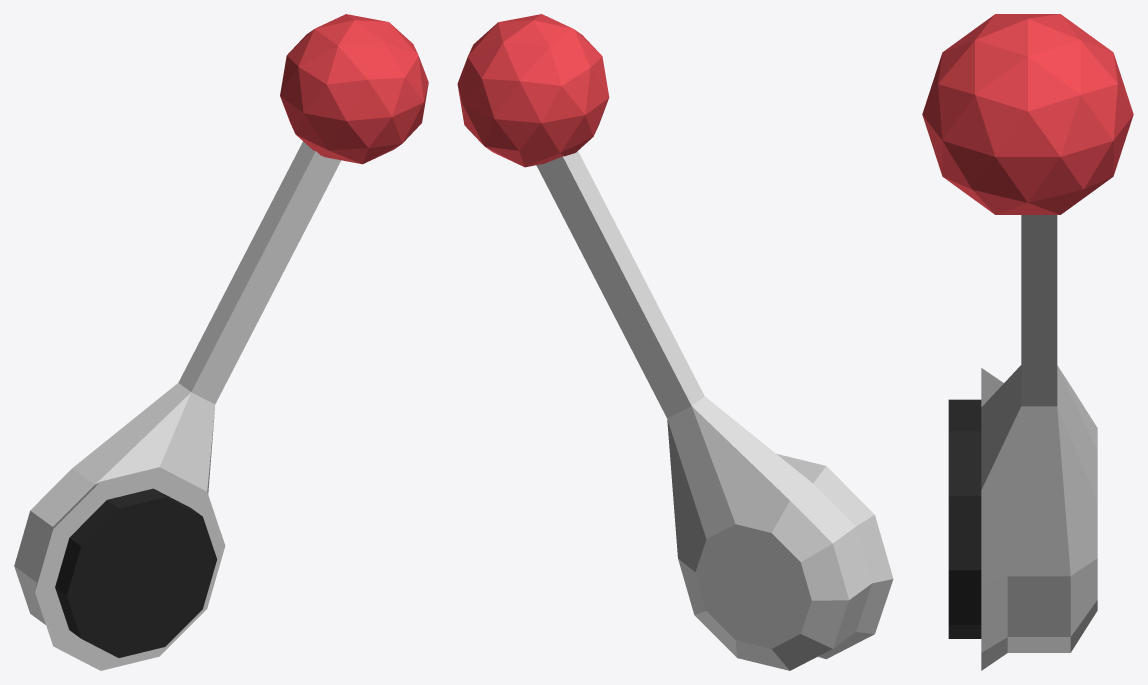
Rendered from SpinHandle.gltf.
The picture shows the model from 3 angles, left to right: view 1: azimuth 30°, elevation 25°; view 2: azimuth 150°, elevation 25°; view 3: azimuth 270°, elevation 25°; orthographic projection. The views are drawn at different scales.
Visible parts, largest first — view 1: Cube.004; view 2: Cube.004; view 3: Cube.004.
Boxes of the visible parts, bbox=[...] form: Cube.004: bbox=[14, 14, 428, 670]; Cube.004: bbox=[457, 14, 893, 670]; Cube.004: bbox=[922, 14, 1133, 670].
Size of the model in its own units: 0.7329 by 1.01 by 0.2421.
1 material, 1 textured.
